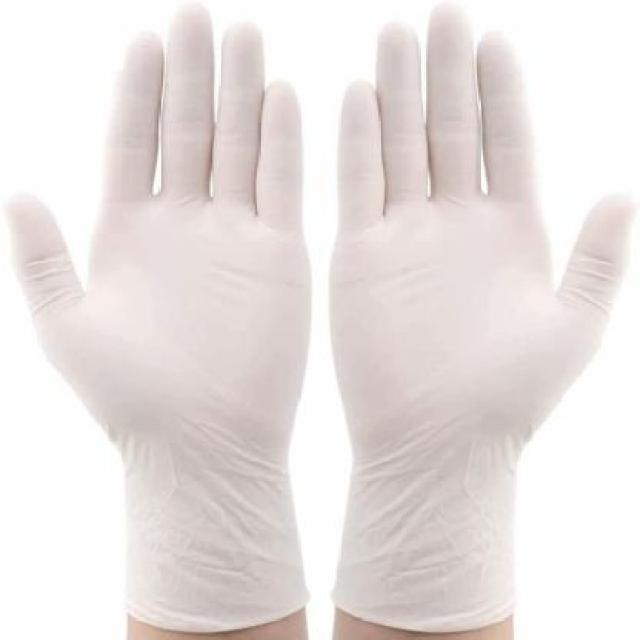Gloves: (0, 2, 309, 611), (326, 0, 634, 590)
